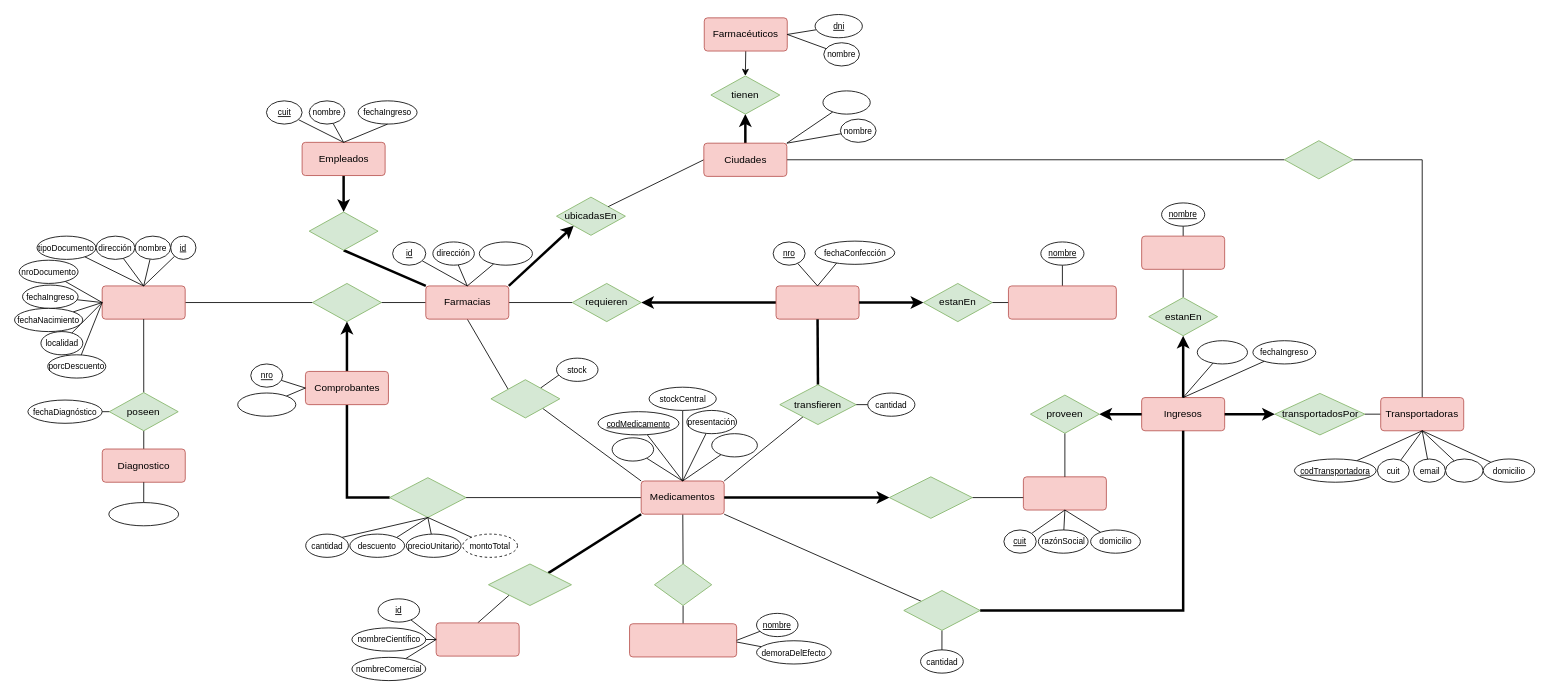
This 1550x696 diagram has some shape labels left out. Here are the shapes that lost their labels. From the top down, the box of each, then its label:
(822, 90, 870, 114): codPostal
(1284, 140, 1353, 179): alcanzan
(308, 211, 378, 250): trabajan
(478, 241, 532, 265): díasGuardia
(1141, 235, 1225, 269): EstadosIngresos
(101, 285, 185, 319): Afiliados
(312, 283, 381, 322): venden
(775, 285, 859, 319): Transferencias
(1008, 285, 1116, 319): EstadosTransferencias
(1196, 340, 1247, 364): codIgreso
(237, 392, 296, 416): fechaEmisión
(490, 379, 560, 418): stockean
(611, 437, 654, 461): precio
(711, 433, 757, 457): descripción
(1445, 458, 1483, 482): teléfono
(389, 477, 466, 518): contienen
(889, 476, 972, 518): distribuidosPor
(1023, 476, 1106, 510): Laboratorios
(108, 502, 179, 526): codDiagnóstico
(488, 563, 571, 605): compuestosPor
(654, 563, 712, 605): prestan
(903, 590, 980, 630): ingresan
(435, 622, 519, 656): Monodrogas
(629, 623, 737, 657): AccionesTerapeuticas
